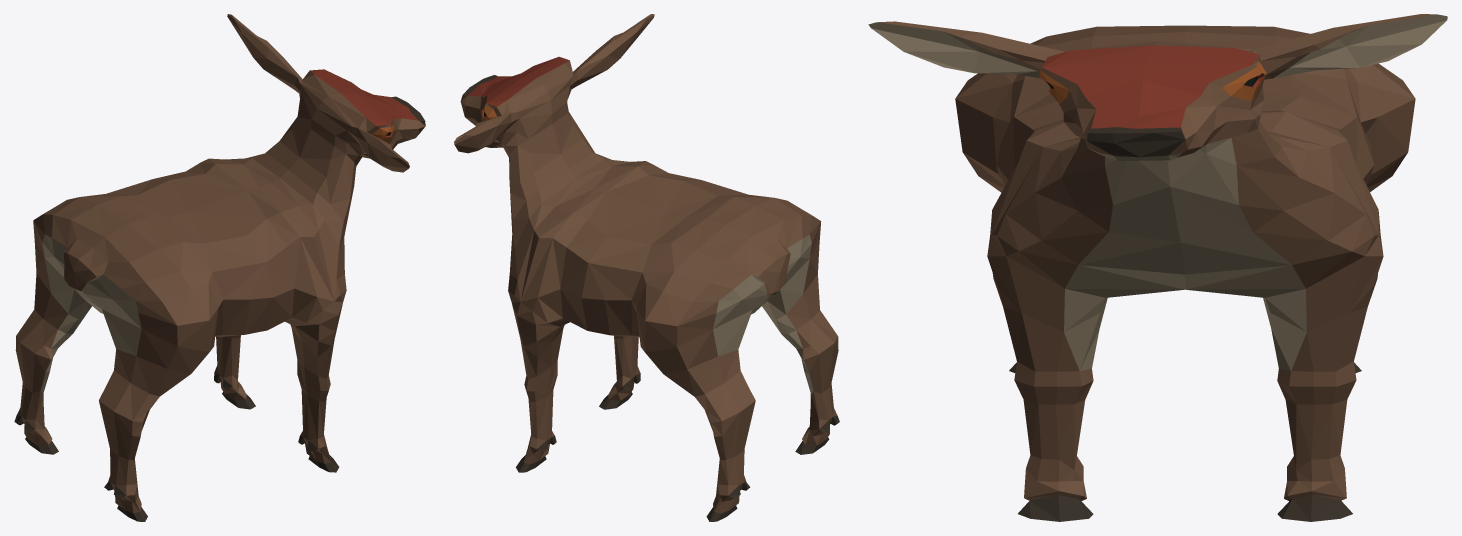
The model's file is red-deer.glb.
3 renders of one model, left to right at view 1: azimuth 30°, elevation 25°; view 2: azimuth 150°, elevation 25°; view 3: azimuth 270°, elevation 25°, orthographic. The views are drawn at different scales.
Bounding box in the file's own units: 0.9967 × 1 × 1.
